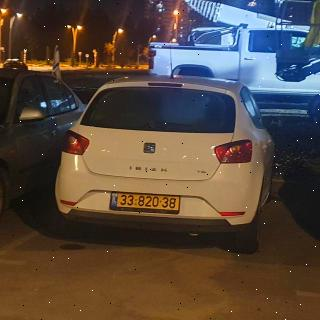LicensePlate: (117, 193, 179, 210)
